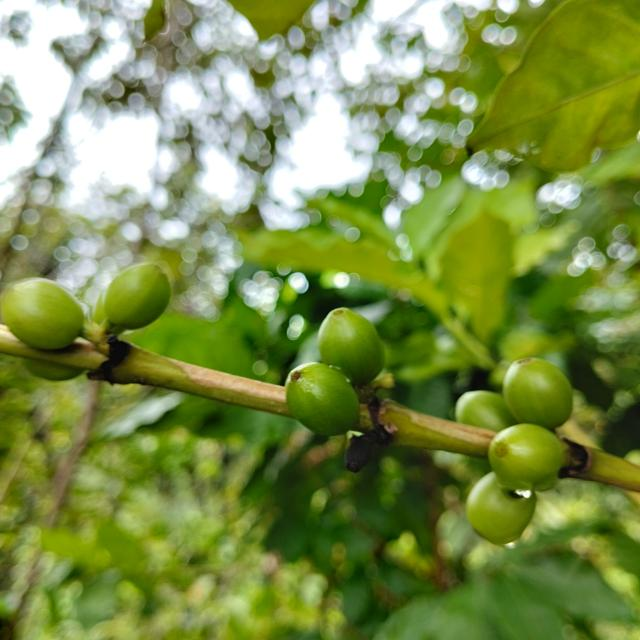green: (0, 278, 83, 350), (0, 278, 83, 350), (285, 363, 360, 436), (285, 363, 360, 436), (467, 472, 538, 546), (467, 472, 538, 546), (318, 308, 385, 386), (318, 308, 385, 386), (489, 424, 565, 491), (489, 424, 565, 491), (504, 358, 573, 429), (504, 358, 573, 429), (103, 263, 170, 329), (103, 263, 170, 329), (456, 391, 518, 432), (456, 391, 518, 432), (22, 358, 83, 381)
